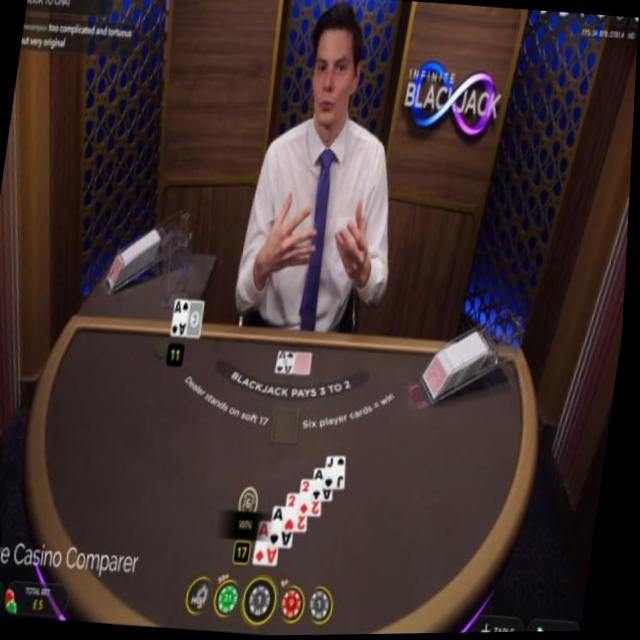Card-2: (289, 493, 312, 533), (303, 480, 326, 517)
Card-A: (258, 521, 284, 567), (274, 506, 298, 549), (174, 298, 193, 338), (317, 468, 338, 502), (278, 349, 299, 375)
Card-J: (328, 456, 350, 489)
